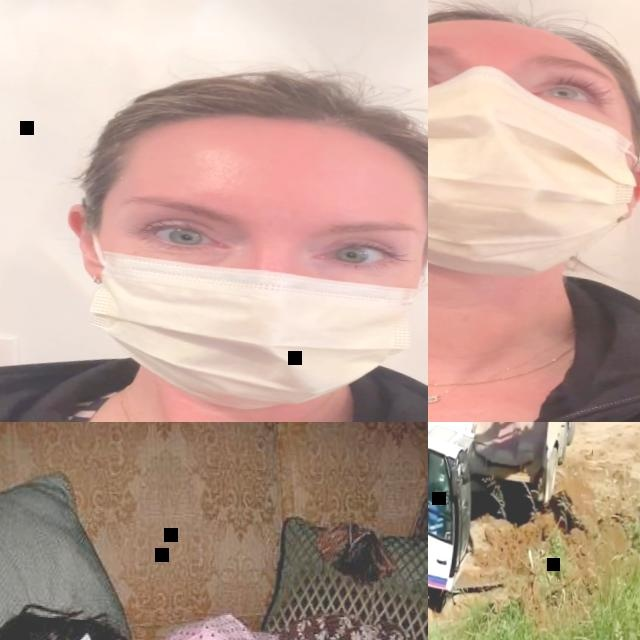Hardhat: (428, 0, 640, 77)
Mask: (73, 204, 428, 420), (428, 58, 640, 282)
NO-Hardhat: (96, 58, 428, 189)
NO-Safety Vest: (428, 264, 640, 422)
Person: (0, 50, 428, 422), (428, 0, 640, 422), (0, 581, 428, 640), (428, 461, 441, 521)
machinery: (428, 422, 640, 640), (465, 422, 590, 514)
